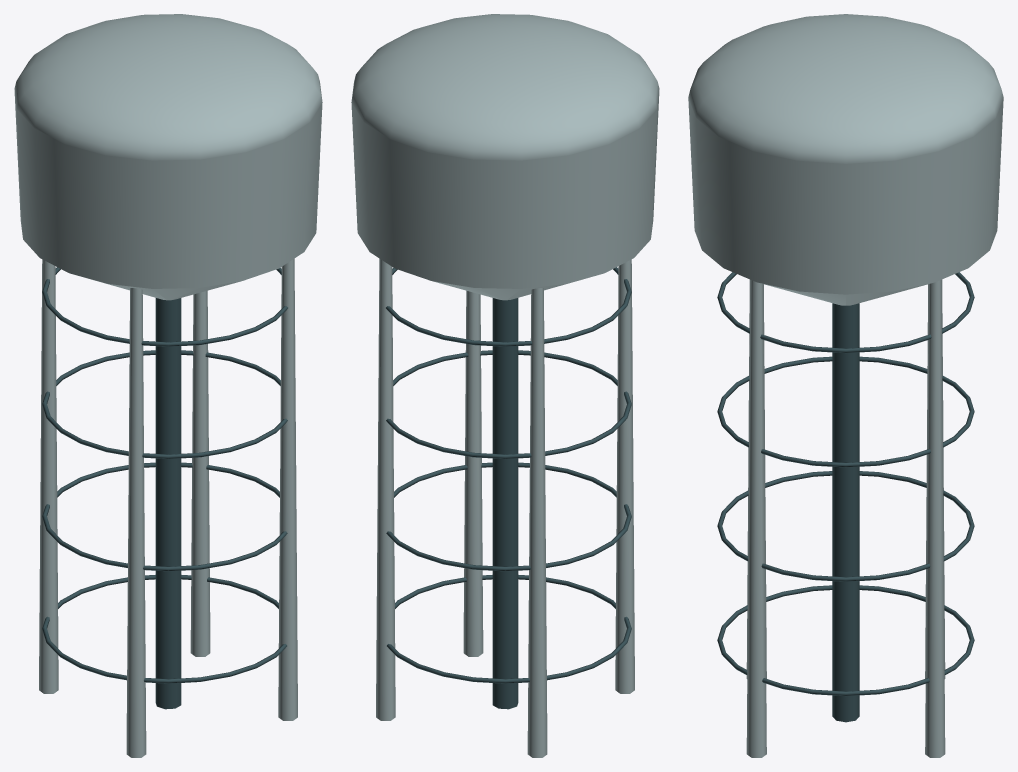
The model's file is water-tower.glb.
3 views of the same model, side by side, from view 1: azimuth 30°, elevation 25°; view 2: azimuth 150°, elevation 25°; view 3: azimuth 270°, elevation 25° (orthographic).
Parts seen in each view (by area): view 1: Procedural municipal water tower; view 2: Procedural municipal water tower; view 3: Procedural municipal water tower.
Boxes of the visible parts, x1,y1,x2,y2 form: Procedural municipal water tower: (14,14,322,757); Procedural municipal water tower: (351,14,659,757); Procedural municipal water tower: (688,14,1003,757).
Size of the model in its own units: 15 by 35.12 by 15.
